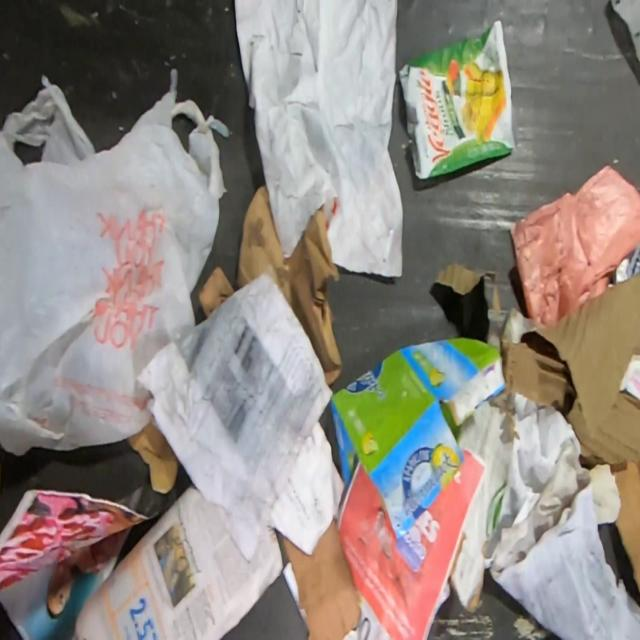cardboard: (434, 260, 640, 465), (330, 338, 504, 542), (198, 182, 341, 382), (282, 517, 361, 638), (611, 463, 640, 585)
soft_plastic: (0, 69, 230, 458), (510, 164, 640, 327), (398, 17, 519, 180)
